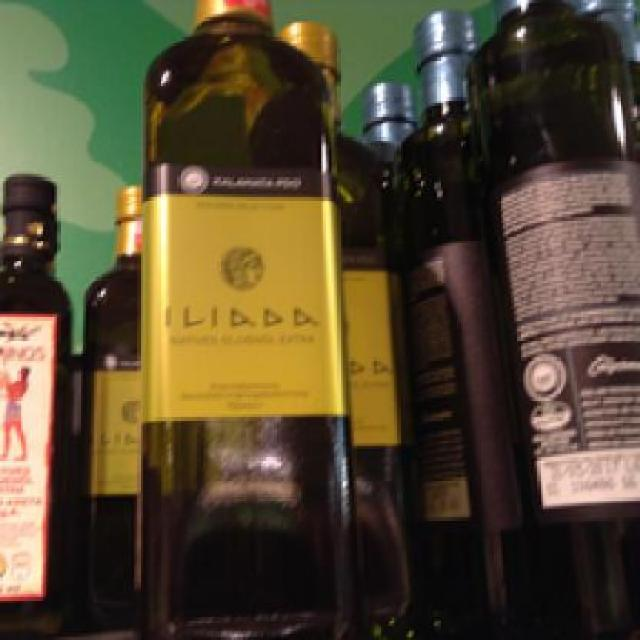Oil: (137, 0, 360, 637), (459, 0, 638, 632), (0, 173, 72, 638)
